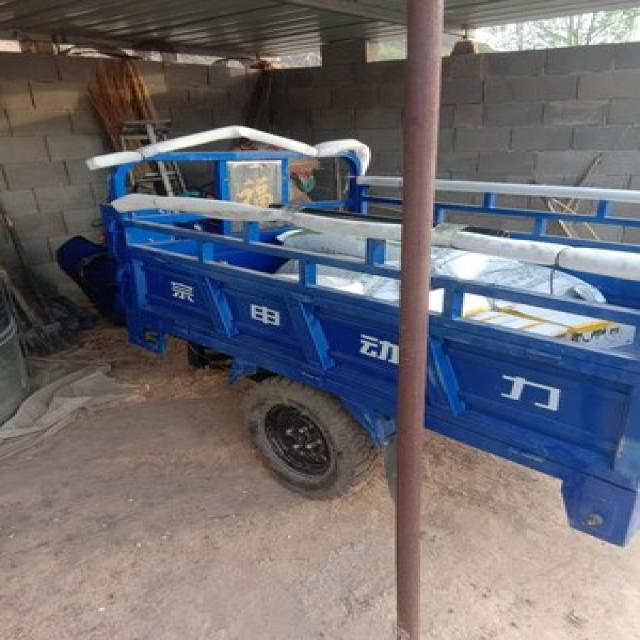pole: (380, 0, 446, 637)
tricycle: (53, 125, 638, 547)
